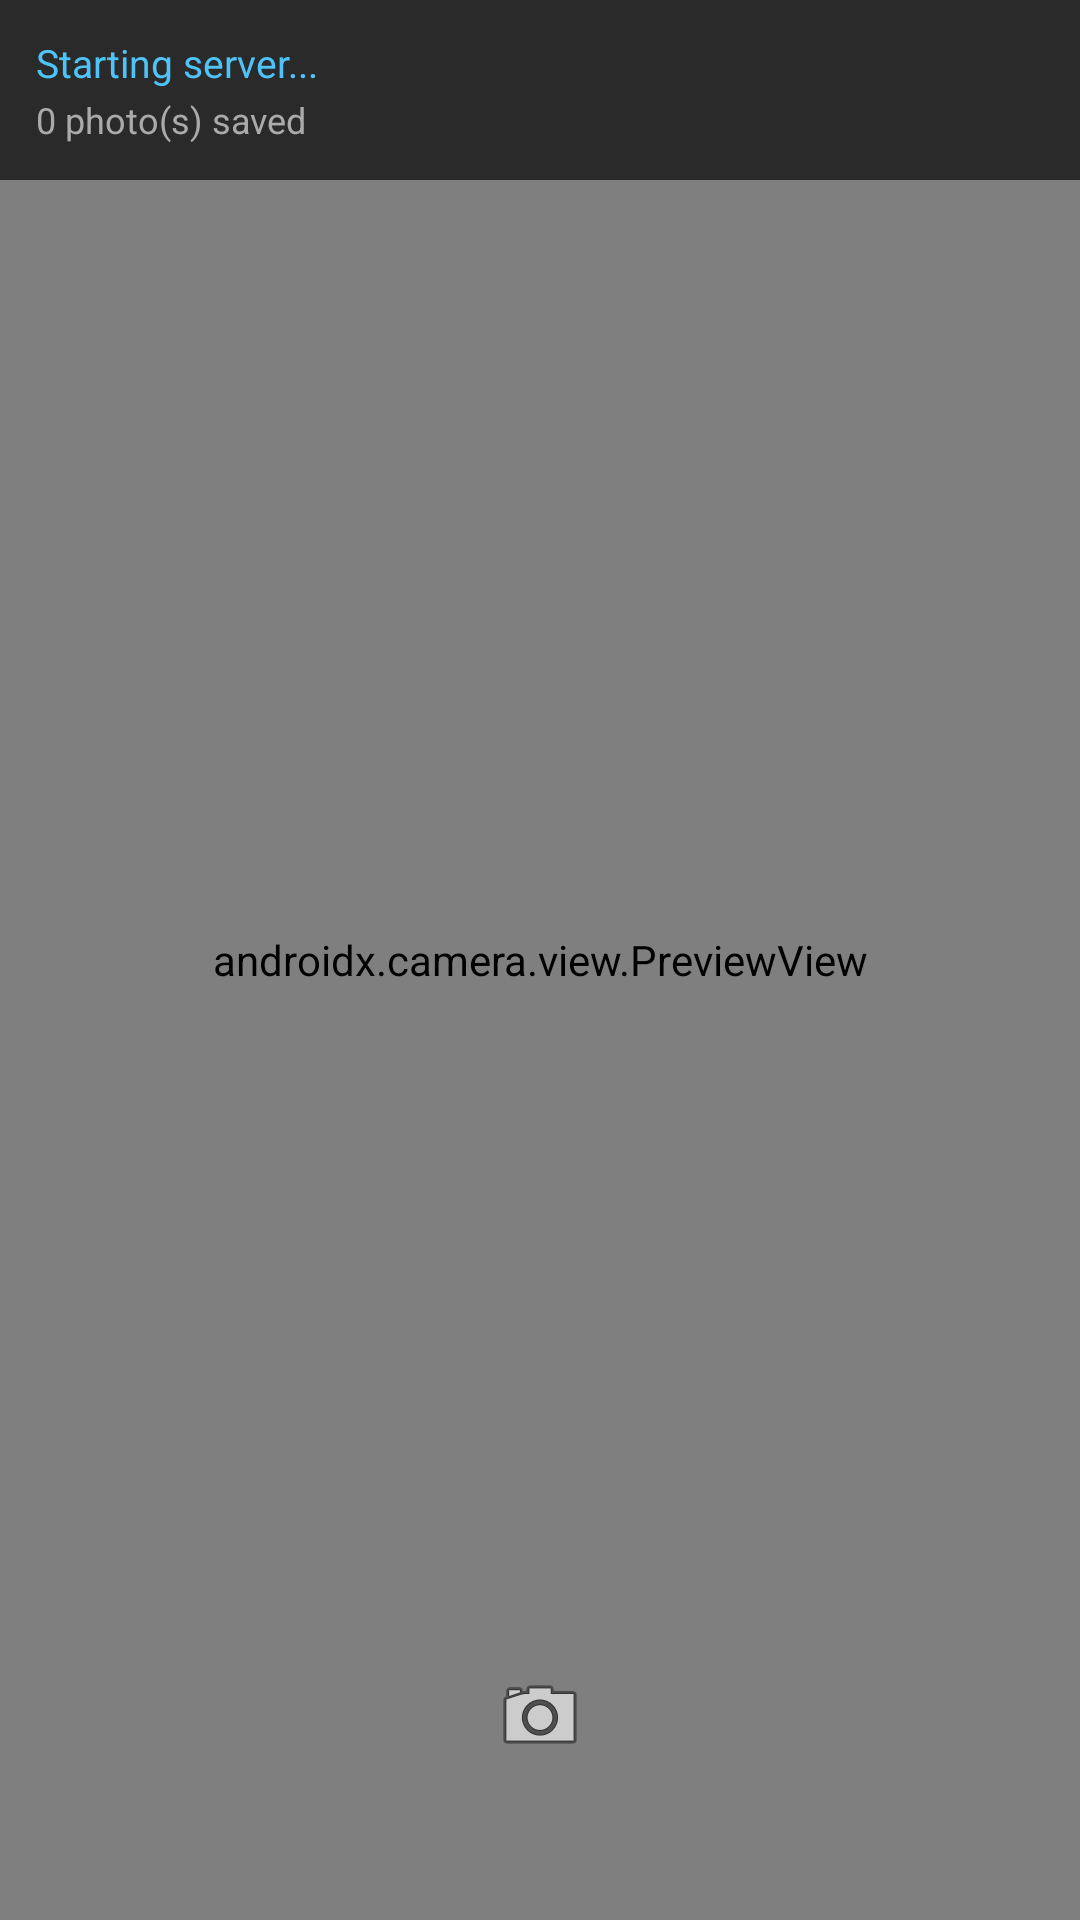

Icon bounding boxes for this 1080px x 1920px phone screenshot, format (x1, y1, x2, y2):
Capture Photo: (503, 1685, 577, 1744)
